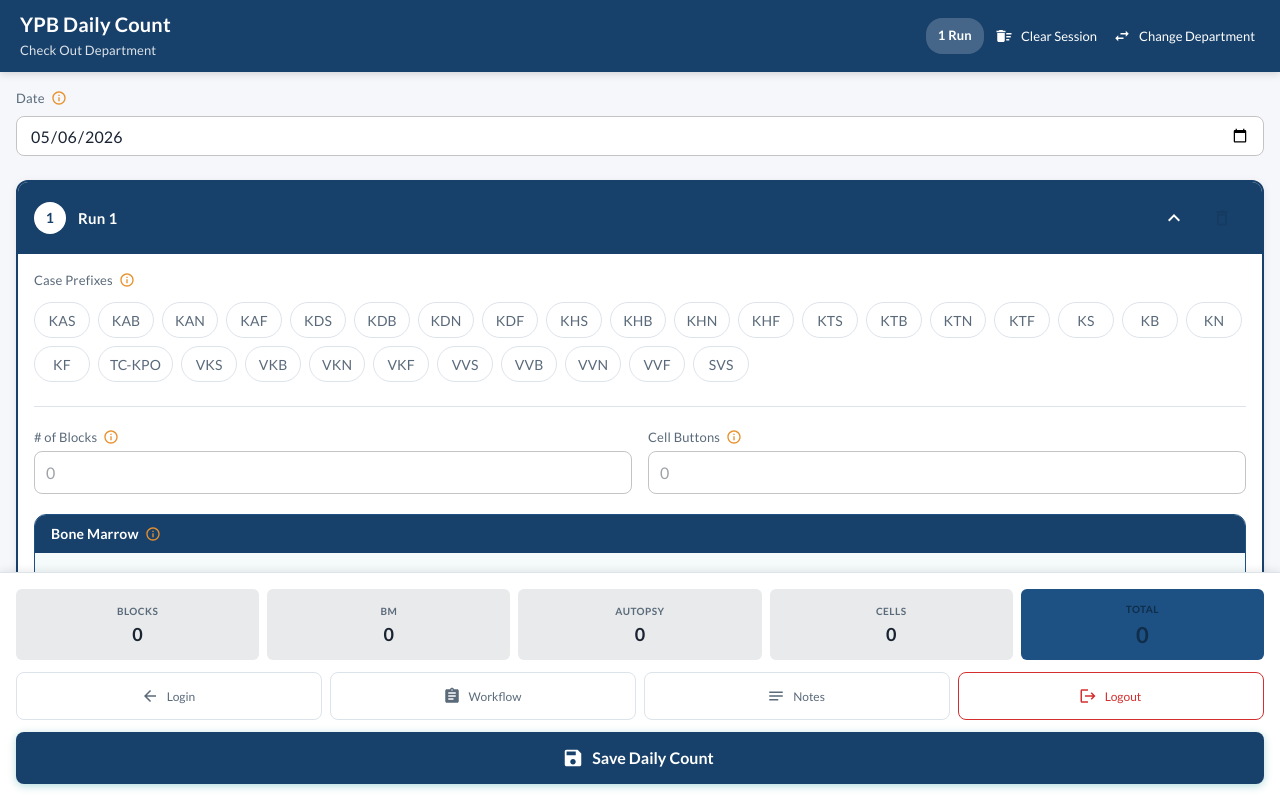
it: Form Workflow Integration › should correctly calculate totals across many runs
The width and height of the screenshot is (1280, 800).
Type "20" into the field named "# of Blocks" at (333, 473), box top-left (34, 451), bottom-right (632, 494)
(page scrolled)
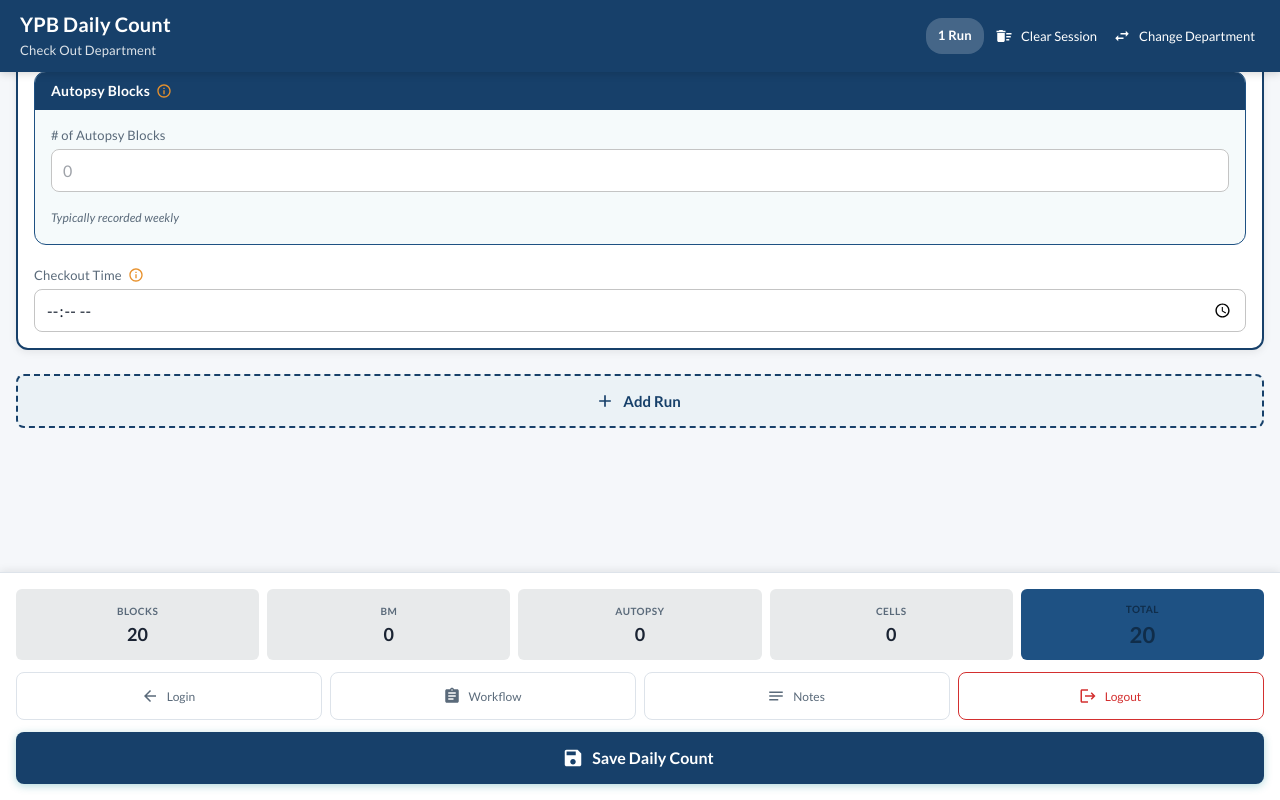
# Add second run
Click the button "Add Run" at (640, 401), box top-left (16, 374), bottom-right (1264, 428)
(page scrolled)
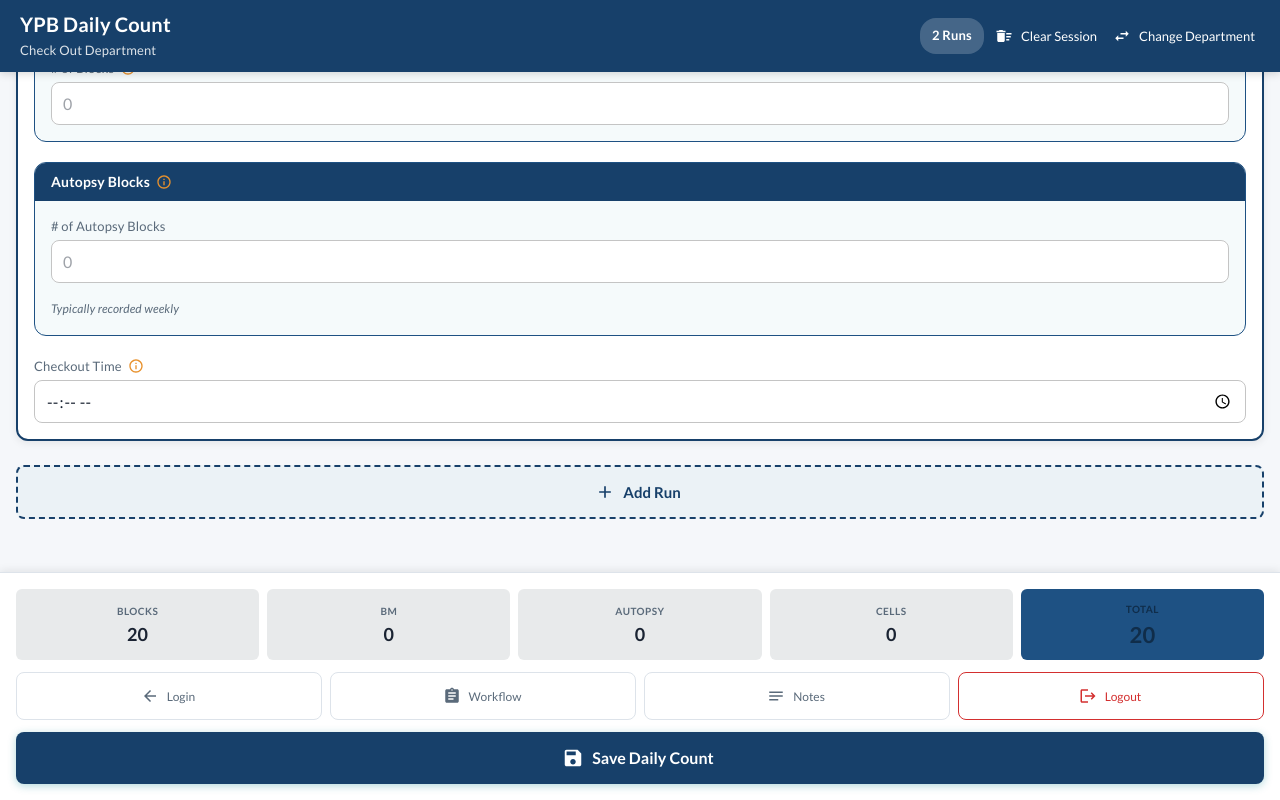
Now the 1st heading "20" is shown, box top-left (127, 624), bottom-right (148, 646)
Now the text "2 Runs" is shown, box top-left (932, 28), bottom-right (972, 44)
